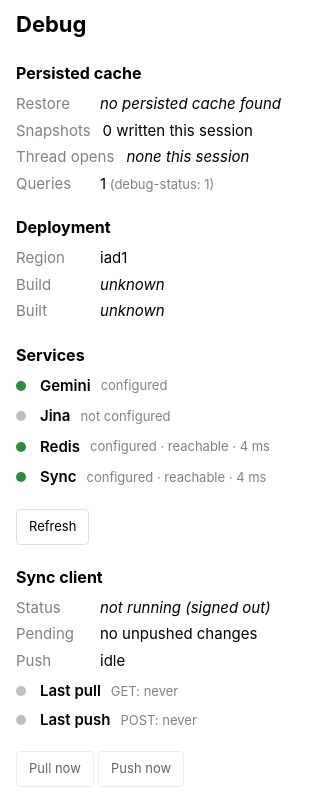
Test: <DebugPage> › refetches when the user clicks Refresh
expect the text "configured · reachable · 4 ms" next to "Redis" is shown: met, box [90,438,270,454]
Click the button "Refresh" at (53, 526), box [16,508,89,544]
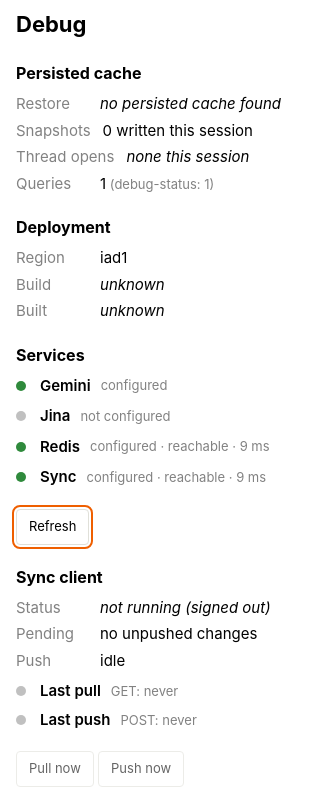
expect the text "configured · reachable · 9 ms" next to "Redis" is shown: met, box [90,438,270,454]
